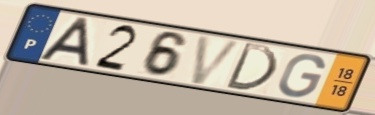2: (93, 24, 141, 73)
6: (136, 30, 193, 79)
A: (34, 16, 91, 69)
D: (222, 41, 279, 94)
G: (276, 52, 328, 99)
V: (188, 34, 247, 87)
